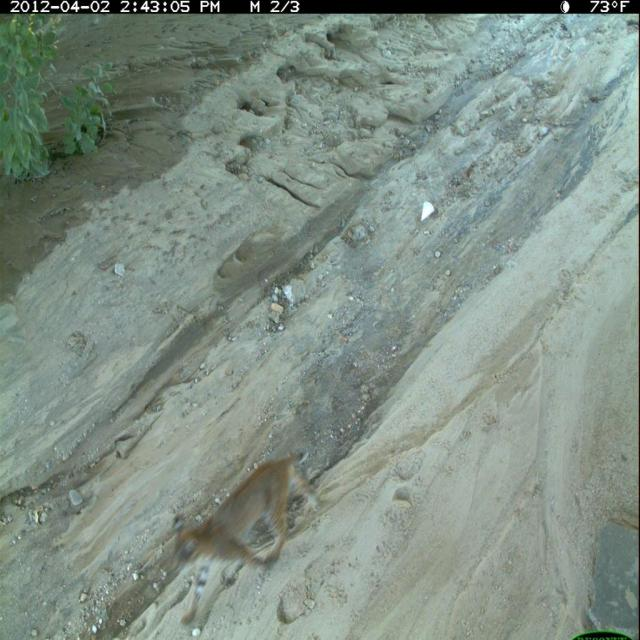bobcat: (166, 449, 324, 633)
